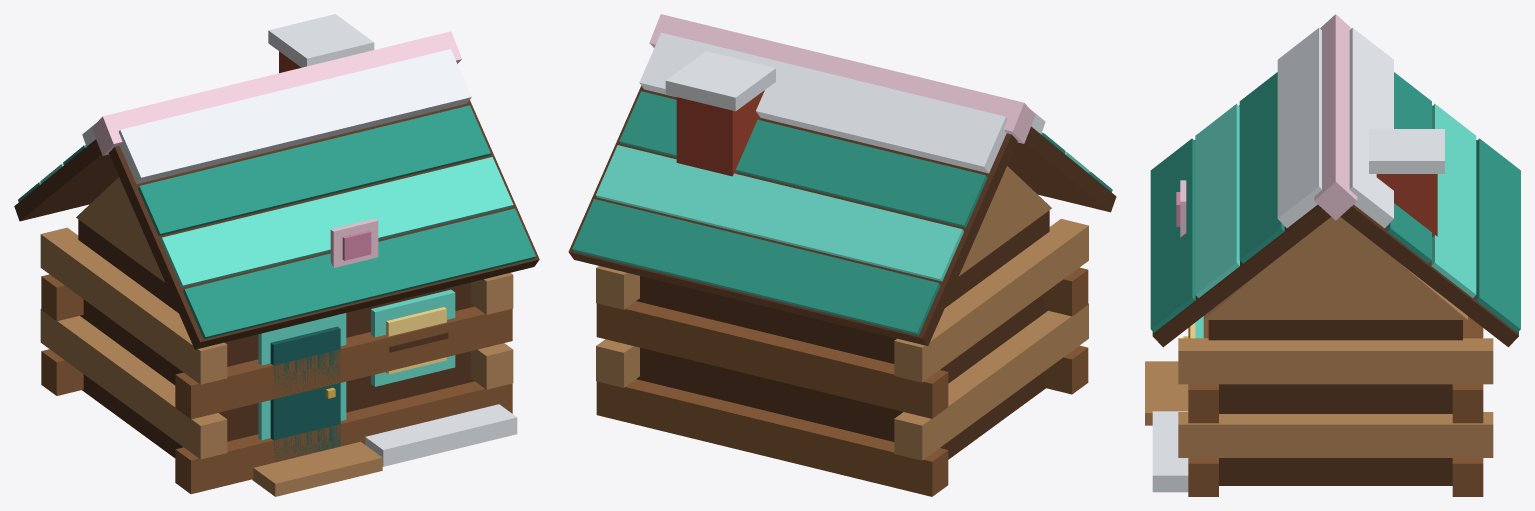
The model's file is bld_hut.glb.
The picture shows the model from 3 angles, left to right: view 1: azimuth 30°, elevation 25°; view 2: azimuth 150°, elevation 25°; view 3: azimuth 270°, elevation 25°; orthographic projection. The views are drawn at different scales.
Visible parts, largest first — view 1: bld_hut; view 2: bld_hut; view 3: bld_hut.
Boxes of the visible parts, x1,y1,x2,y2 form: bld_hut: (14,14,539,496); bld_hut: (568,14,1116,496); bld_hut: (1145,14,1520,496).
Bounding box in the file's own units: 3.9 × 3.51 × 3.69.
1 material, 1 textured.
